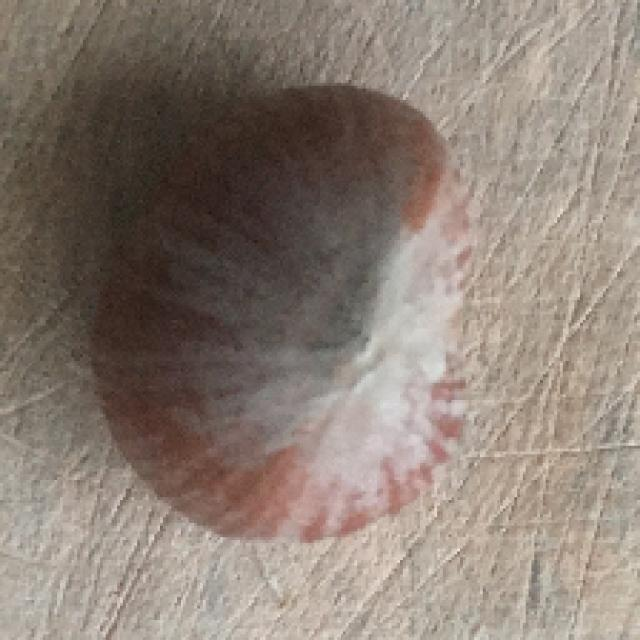QualityHazelnut: (95, 83, 473, 543)
